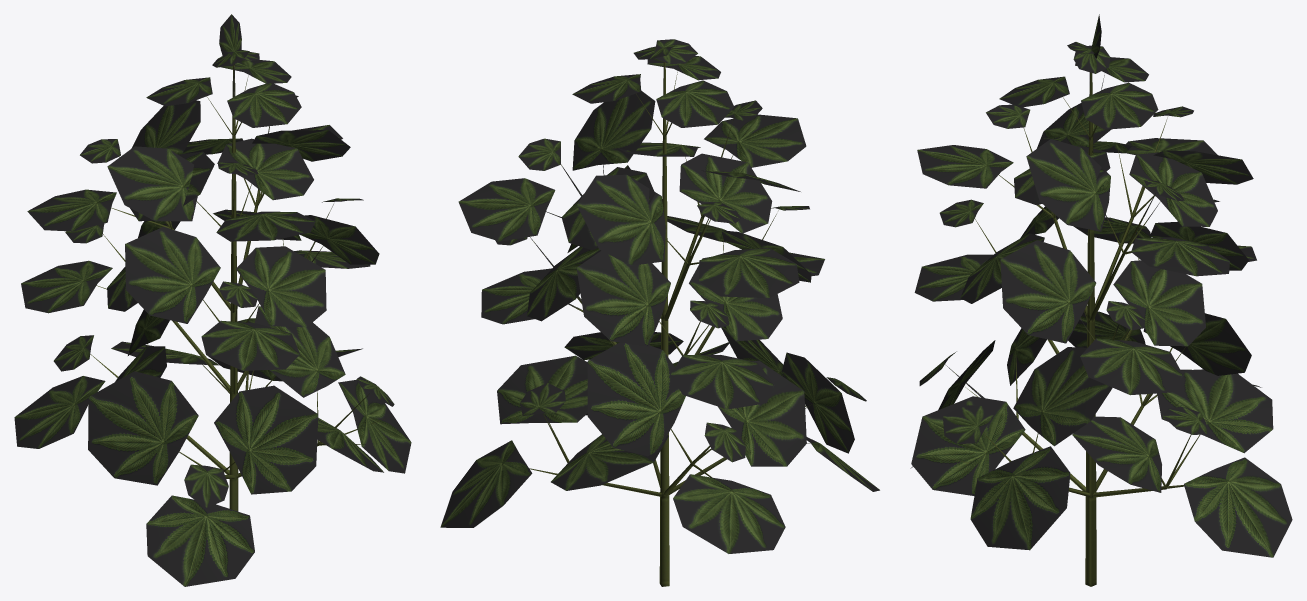
The model's file is Canabis.fbx.
The picture shows the model from 3 angles, left to right: view 1: azimuth 30°, elevation 25°; view 2: azimuth 150°, elevation 25°; view 3: azimuth 270°, elevation 25°; orthographic projection. The views are drawn at different scales.
Parts seen in each view (by area): view 1: Cannabis_Strain_S1_Veg; view 2: Cannabis_Strain_S1_Veg; view 3: Cannabis_Strain_S1_Veg.
Part boxes in pixels (x1,y1,x2,y2): Cannabis_Strain_S1_Veg: [14, 14, 411, 586]; Cannabis_Strain_S1_Veg: [440, 39, 879, 586]; Cannabis_Strain_S1_Veg: [910, 14, 1292, 586].
Bounding box in the file's own units: 234 × 382 × 232.
